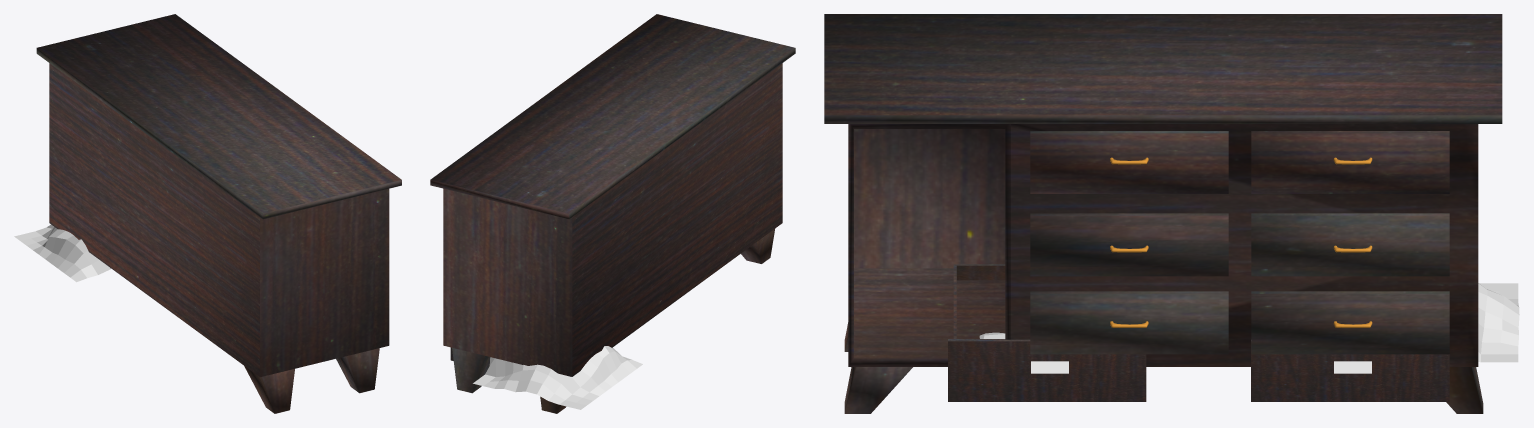
File: Drawer.fbx
3 views of the same model, side by side, from view 1: azimuth 30°, elevation 25°; view 2: azimuth 150°, elevation 25°; view 3: azimuth 270°, elevation 25° (orthographic). The views are drawn at different scales.
Parts seen in each view (by area): view 1: Plano.002, Plano subdividido; view 2: Plano.002, Plano subdividido; view 3: Plano.002, Cube.001, Cube, Plano subdividido.
Part boxes in pixels (x1,y1,x2,y2): Plano.002: (36,14,401,413); Plano subdividido: (14,224,110,282); Plano.002: (430,14,795,413); Plano subdividido: (473,346,642,409); Plano.002: (824,14,1502,413); Cube.001: (948,264,1146,401); Cube: (1251,340,1449,401); Plano subdividido: (1478,283,1519,362).
Bounding box in the file's own units: 299 × 370 × 743.
Materials: 2 (1 with a texture image).
